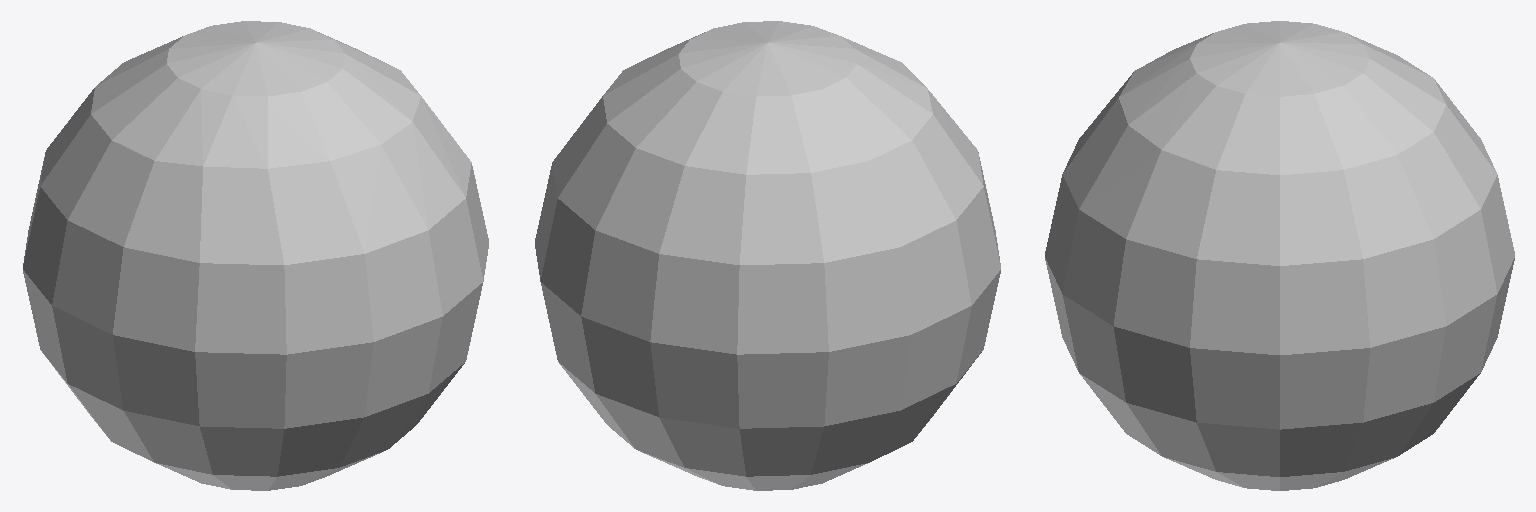
File: packman_close.obj
The picture shows the model from 3 angles: view 1: azimuth 30°, elevation 25°; view 2: azimuth 150°, elevation 25°; view 3: azimuth 270°, elevation 25°; orthographic projection.
Parts seen in each view (by area): view 1: Sphere; view 2: Sphere; view 3: Sphere.
Boxes of the visible parts, x1=… form: Sphere: x1=23, y1=21, x2=488, y2=490; Sphere: x1=535, y1=21, x2=1000, y2=490; Sphere: x1=1045, y1=21, x2=1514, y2=490.
Bounding box in the file's own units: 1 × 1 × 1.